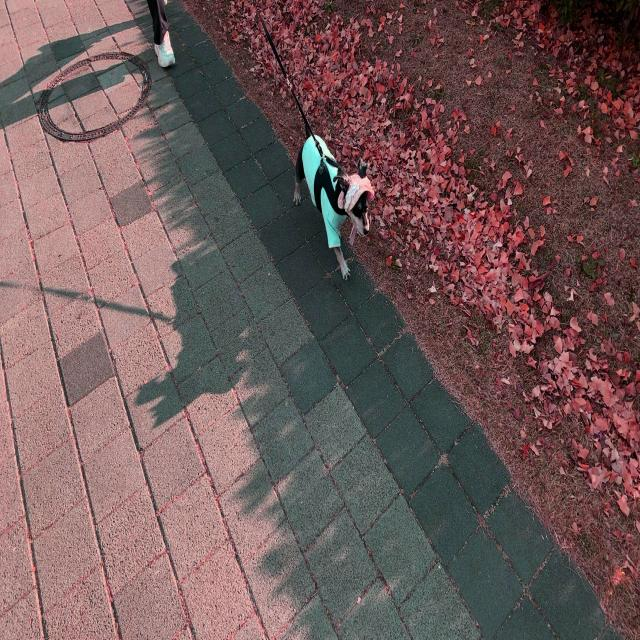Dog: (292, 122, 373, 282)
